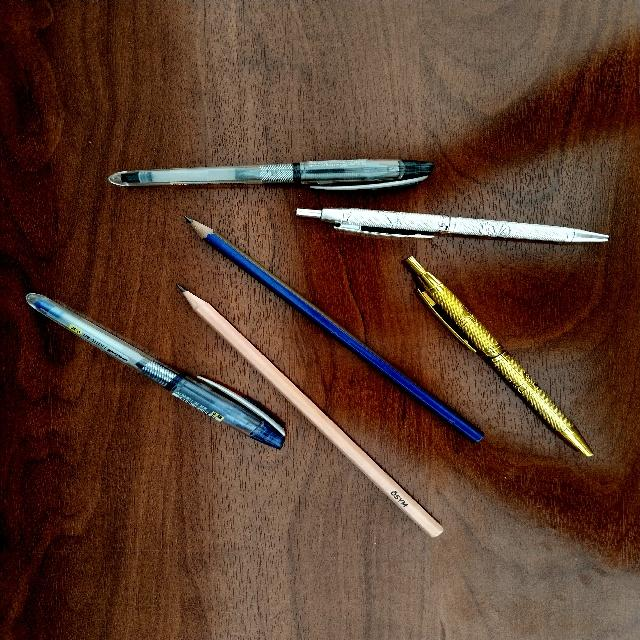pen: (26, 293, 284, 448), (109, 159, 433, 189)
pencil: (185, 217, 482, 441), (179, 286, 442, 536)
signature pen: (406, 256, 592, 455), (297, 208, 607, 242)
